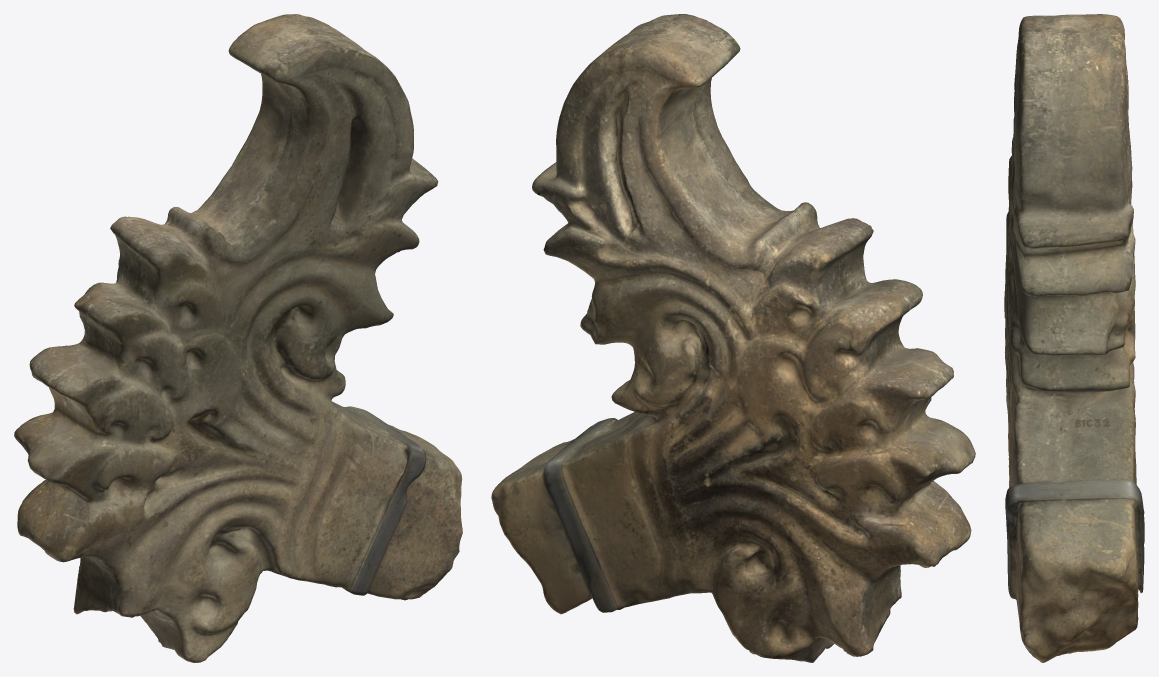
The model's file is 31_vattrangtri_final.glb.
The picture shows the model from 3 angles, left to right: view 1: azimuth 30°, elevation 25°; view 2: azimuth 150°, elevation 25°; view 3: azimuth 270°, elevation 25°; orthographic projection. The views are drawn at different scales.
Size of the model in its own units: 0.4296 by 0.5592 by 0.121.
Materials: 1 (1 with a texture image).
